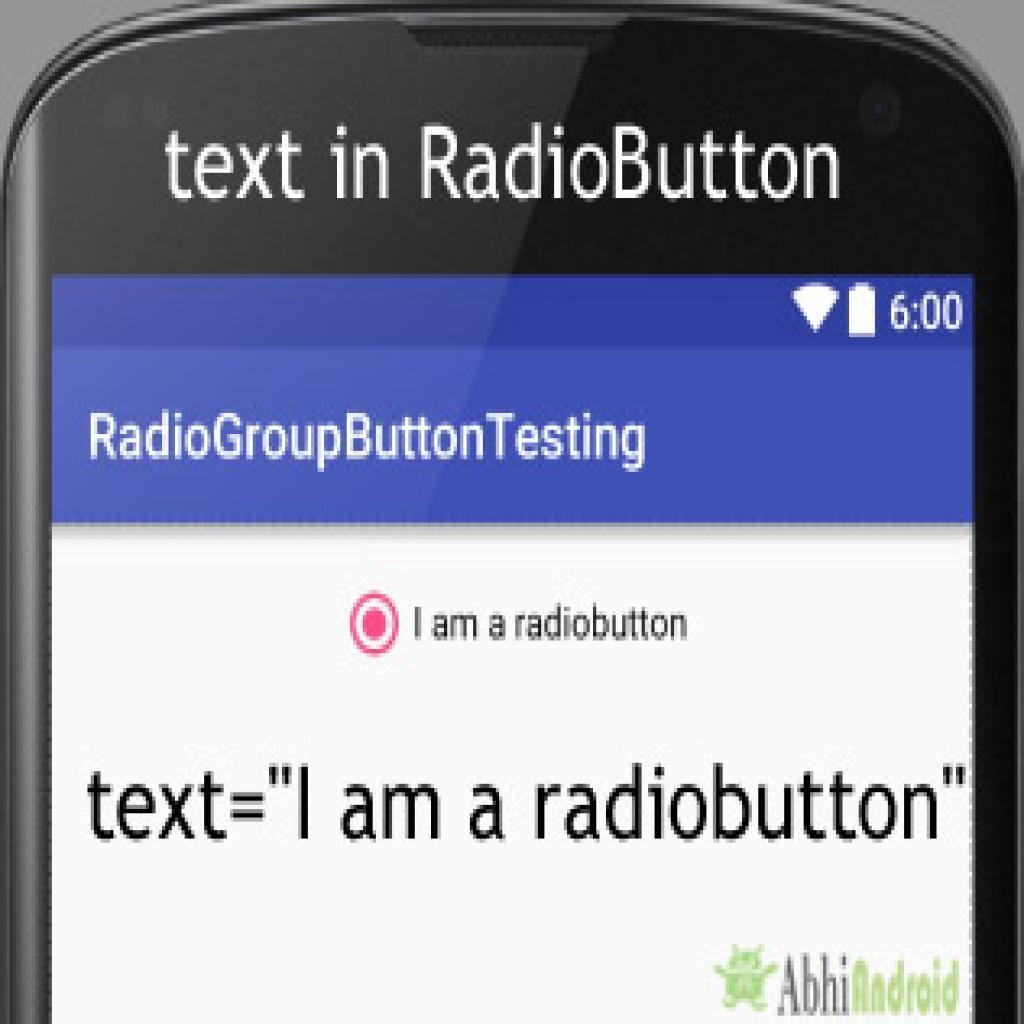radio: (345, 581, 401, 661)
